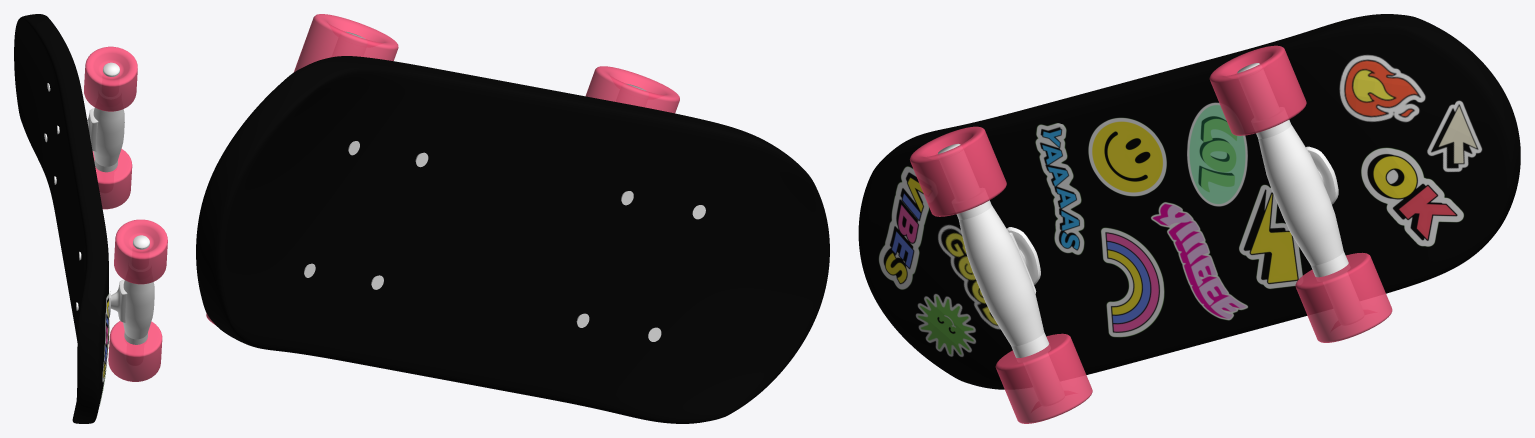
The model's file is board-comet.glb.
3 renders of one model, left to right at view 1: azimuth 30°, elevation 25°; view 2: azimuth 150°, elevation 25°; view 3: azimuth 270°, elevation 25°, orthographic. The views are drawn at different scales.
Visible parts, largest first — view 1: Plane_16, Cylinder.001_14, Cylinder.003_6, Cylinder.002_15, Cube_13, LOGO11 (1)_0; view 2: Plane_16, Cylinder.003_6, Cylinder.001_14, Circle.003_17; view 3: Plane_16, Cylinder.002_15, Cylinder.001_14, Cylinder.003_6, LOGO12 (1)_1, LOGO6 (1)_8, LOGO3 (1)_7, LOGO8 (1)_10, LOGO13_preview_rev_1_2, LOGO7 (1)_9, LOGO9 (1)_11, LOGO11 (1)_0 (+5 smaller).
Part boxes in pixels (<box>): Plane_16: <box>14,14,108,423</box>; Cylinder.001_14: <box>108,219,167,381</box>; Cylinder.003_6: <box>84,46,137,209</box>; Cylinder.002_15: <box>93,62,154,344</box>; Cube_13: <box>87,108,127,322</box>; LOGO11 (1)_0: <box>102,293,109,382</box>; Plane_16: <box>196,56,829,423</box>; Cylinder.003_6: <box>206,14,398,324</box>; Cylinder.001_14: <box>585,66,679,113</box>; Circle.003_17: <box>304,141,705,341</box>; Plane_16: <box>858,14,1520,389</box>; Cylinder.002_15: <box>938,63,1348,357</box>; Cylinder.001_14: <box>910,126,1092,423</box>; Cylinder.003_6: <box>1209,45,1392,342</box>; LOGO12 (1)_1: <box>1361,147,1463,246</box>; LOGO6 (1)_8: <box>1088,117,1166,196</box>; LOGO3 (1)_7: <box>1187,102,1247,206</box>; LOGO8 (1)_10: <box>1101,227,1164,337</box>; LOGO13_preview_rev_1_2: <box>1339,54,1425,122</box>; LOGO7 (1)_9: <box>1151,202,1248,320</box>; LOGO9 (1)_11: <box>1239,184,1302,288</box>; LOGO11 (1)_0: <box>878,166,929,289</box>.
Bounding box in the file's own units: 0.0213 × 0.0276 × 0.0386.
15 materials, 12 textured.
